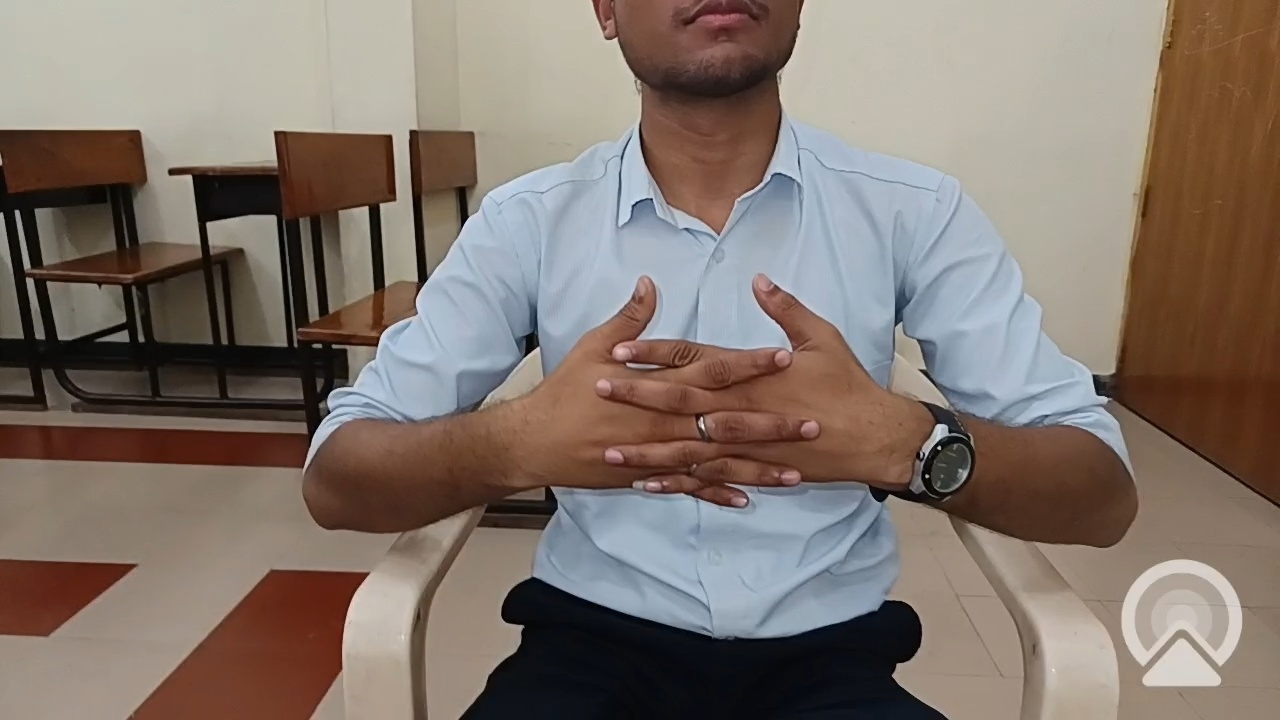W: (435, 248, 926, 574)
